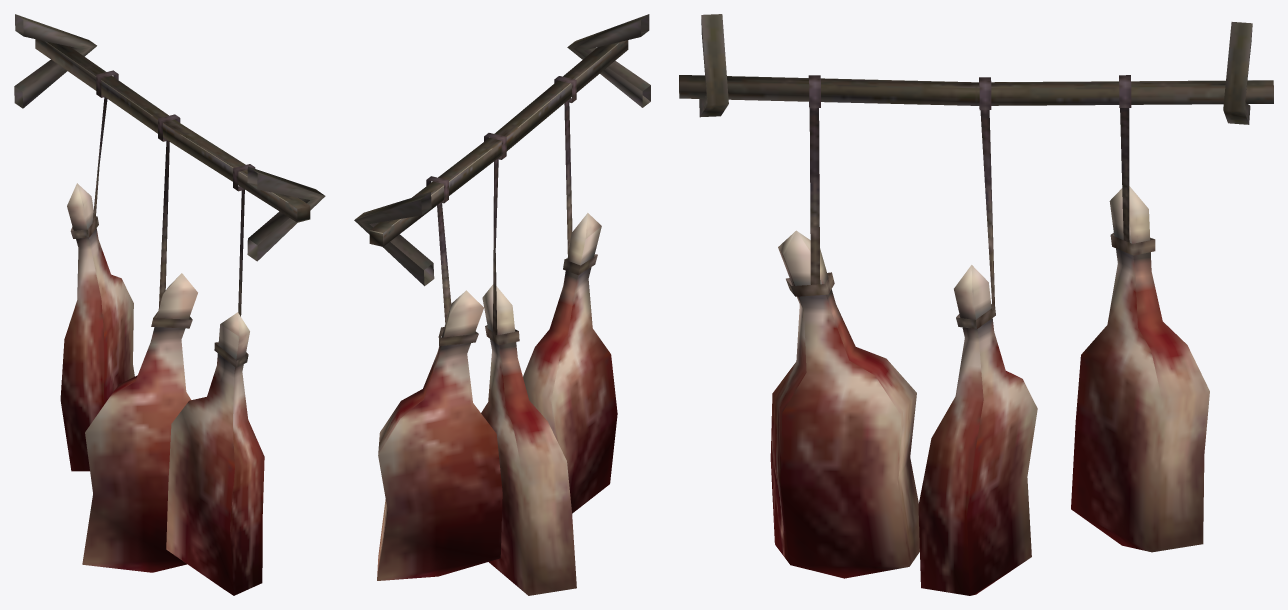
File: OZ_20_hy_meat01A.glb
The picture shows the model from 3 angles, left to right: view 1: azimuth 30°, elevation 25°; view 2: azimuth 150°, elevation 25°; view 3: azimuth 270°, elevation 25°; orthographic projection. The views are drawn at different scales.
Visible parts, largest first — view 1: OM_20_hy_meat01A; view 2: OM_20_hy_meat01A; view 3: OM_20_hy_meat01A.
Boxes of the visible parts, box(x1,y1,x2,y2) form: OM_20_hy_meat01A: box(14, 14, 325, 595); OM_20_hy_meat01A: box(354, 14, 650, 595); OM_20_hy_meat01A: box(679, 14, 1273, 595).
Bounding box in the file's own units: 0.2851 × 1.03 × 0.9649.
Materials: 1 (1 with a texture image).
